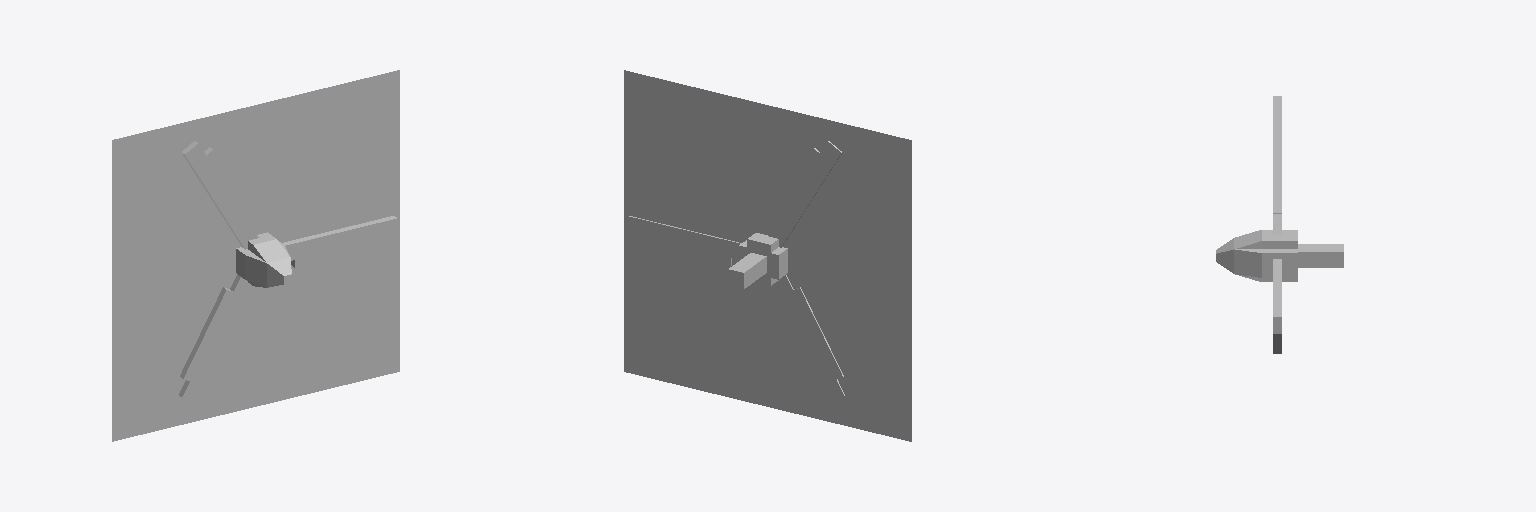
File: propellersmall3blade.obj
3 views of the same model, side by side, from view 1: azimuth 30°, elevation 25°; view 2: azimuth 150°, elevation 25°; view 3: azimuth 270°, elevation 25° (orthographic).
Parts seen in each view (by area): view 1: #translucent_3prop_mblur, $blade_3, $blade_2, $blade_1, cube; view 2: #translucent_3prop_mblur, $blade_3, $blade_2, $blade_1, shaft; view 3: shaft, cube, $blade_2, $blade_1.
Boxes of the visible parts, box(x1,y1,x2,y2) form: #translucent_3prop_mblur: box(112, 70, 399, 441); $blade_3: box(179, 274, 251, 402); $blade_2: box(182, 141, 258, 249); $blade_1: box(282, 216, 397, 267); cube: box(245, 239, 291, 287); #translucent_3prop_mblur: box(624, 70, 911, 441); $blade_3: box(774, 275, 844, 400); $blade_2: box(768, 141, 841, 247); $blade_1: box(629, 216, 741, 265); shaft: box(728, 233, 787, 288); shaft: box(1262, 230, 1343, 281); cube: box(1216, 230, 1261, 281); $blade_2: box(1273, 96, 1281, 234); $blade_1: box(1273, 259, 1281, 333).
Bounding box in the file's own units: 2.28 × 2.28 × 0.875.